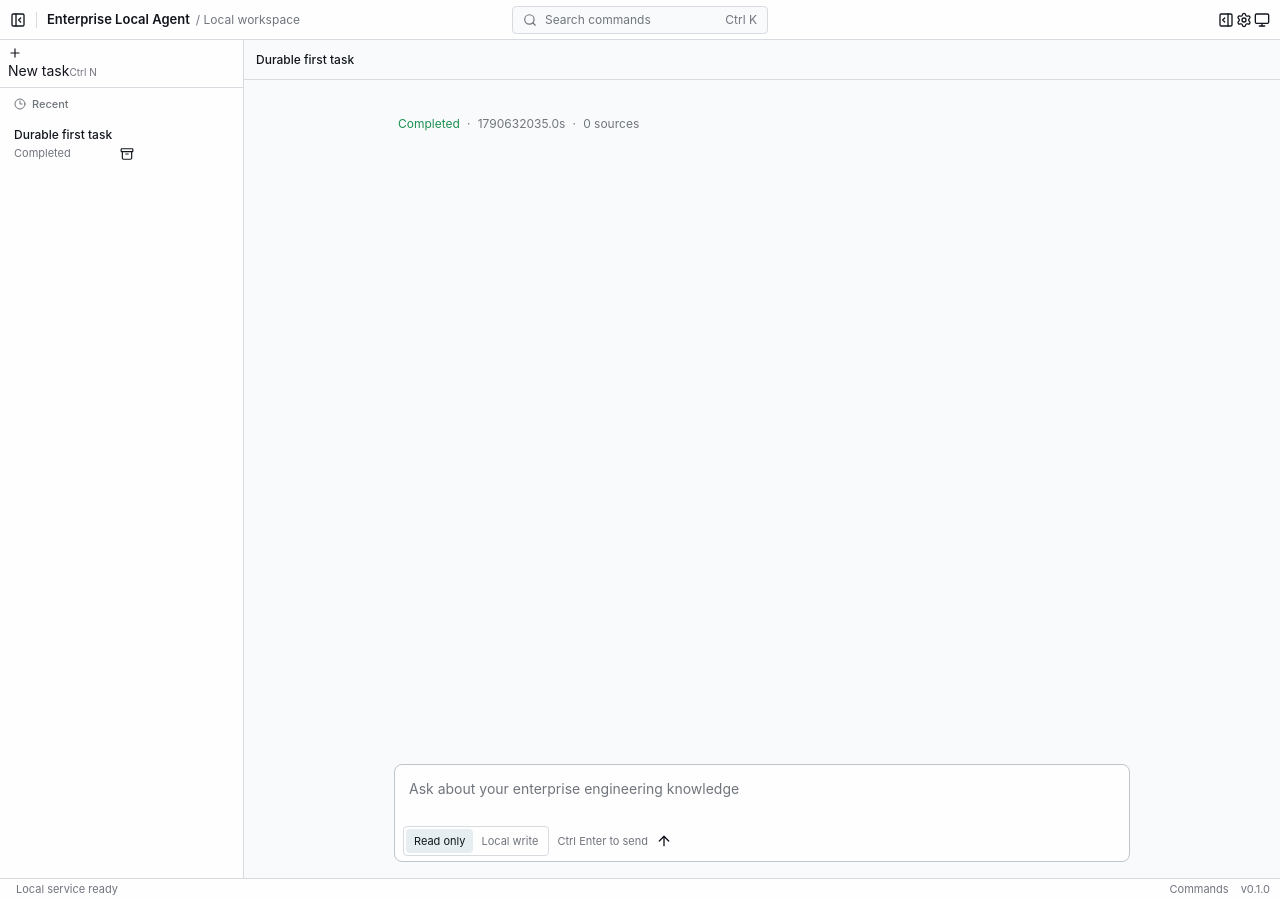
Test: App conversation › archives terminal history through the named service command
What coordinates should you click on to do the following:
click the button named "Remove from history"
I would click on:
 (127, 154)
Its box is 120,147 -> 134,161.
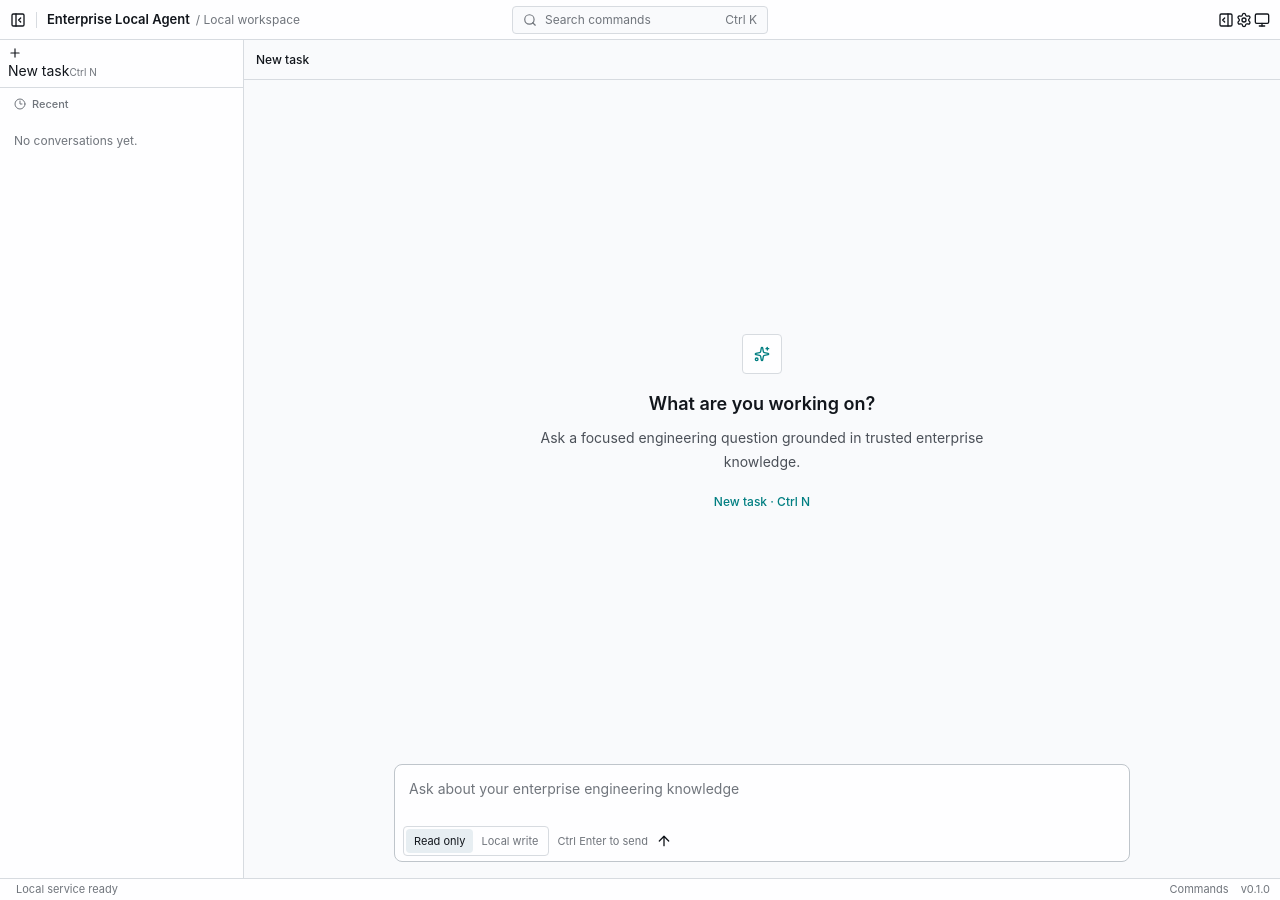
Expected: the button "Durable first task" is gone
